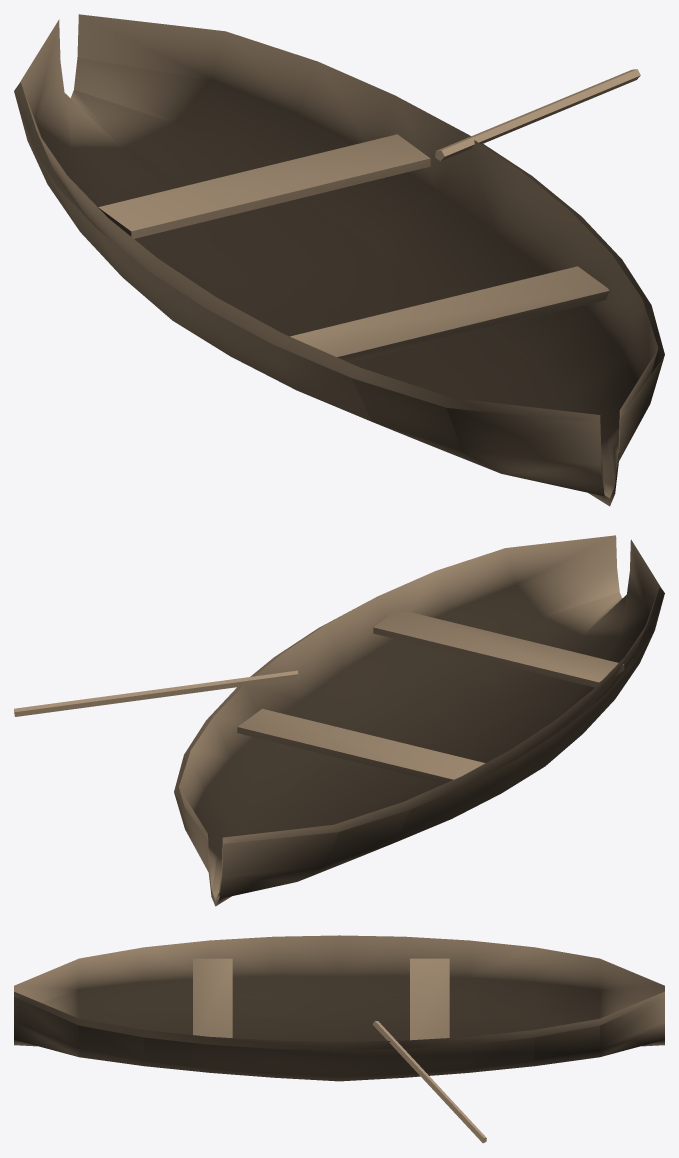
File: rowboat.glb
3 views of the same model, one above another, from view 1: azimuth 30°, elevation 25°; view 2: azimuth 150°, elevation 25°; view 3: azimuth 270°, elevation 25° (orthographic). The views are drawn at different scales.
Parts seen in each view (by area): view 1: rowboat; view 2: rowboat; view 3: rowboat.
Part boxes in pixels (bbox=[...]): rowboat: bbox=[14, 14, 664, 506]; rowboat: bbox=[14, 535, 664, 906]; rowboat: bbox=[14, 935, 664, 1143].
Size of the model in its own units: 2.35 by 0.4888 by 3.6.
